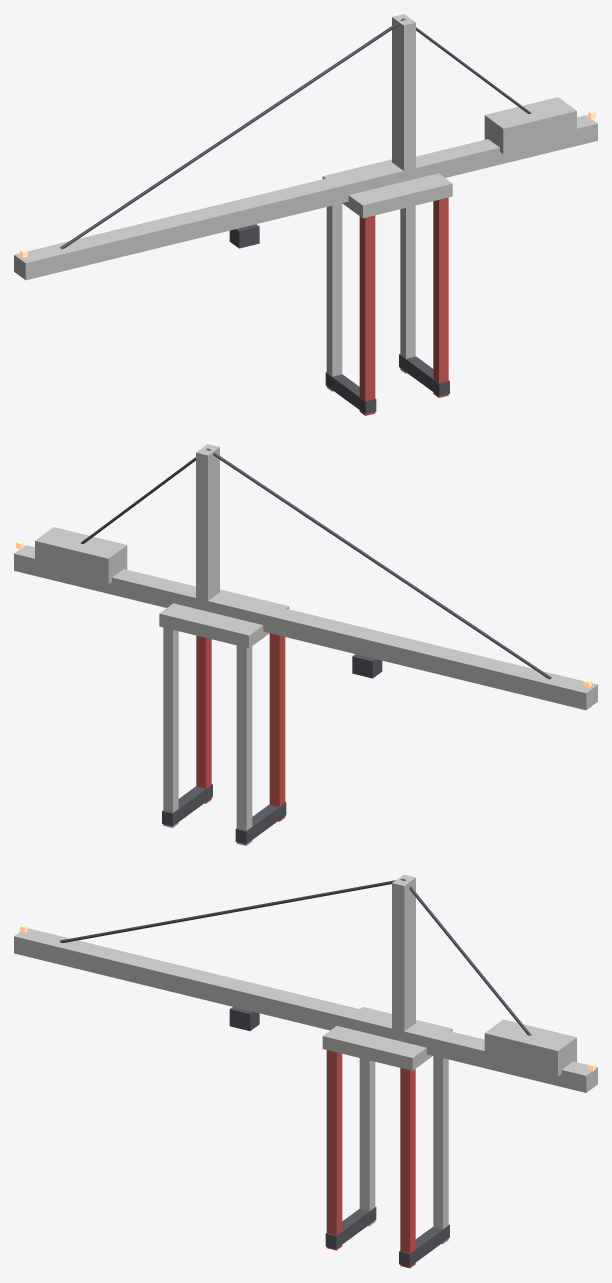
Rendered from port_crane.glb.
The picture shows the model from 3 angles, top to bottom: view 1: azimuth 30°, elevation 25°; view 2: azimuth 150°, elevation 25°; view 3: azimuth 330°, elevation 25°; orthographic projection.
Parts seen in each view (by area): view 1: CraneBoom, CraneApex, CraneMachinery, CraneLeg-9-7, CraneLeg9-7, CranePortalBeam, CraneLeg-97, CraneLeg97, CraneStay-80, CraneSill-9, CraneSill9, CraneCab; view 2: CraneBoom, CraneApex, CraneMachinery, CraneLeg-97, CraneLeg97, CranePortalBeam, CraneLeg-9-7, CraneLeg9-7, CraneStay-80, CraneSill-9, CraneSill9, CraneCab; view 3: CraneBoom, CraneApex, CraneMachinery, CraneLeg-9-7, CraneLeg9-7, CranePortalBeam, CraneLeg97, CraneLeg-97, CraneStay-80, CraneSill-9, CraneSill9, CraneStay40 (+1 smaller).
Boxes of the visible parts, x1,y1,x2,y2 form: CraneBoom: (14, 115, 597, 280); CraneApex: (392, 14, 415, 179); CraneMachinery: (484, 97, 576, 154); CraneLeg-9-7: (359, 215, 375, 415); CraneLeg9-7: (433, 197, 448, 397); CranePortalBeam: (322, 159, 452, 218); CraneLeg-97: (326, 203, 342, 391); CraneLeg97: (400, 205, 415, 373); CraneStay-80: (60, 18, 404, 249); CraneSill-9: (325, 372, 376, 414); CraneSill9: (399, 354, 449, 396); CraneCab: (229, 224, 259, 248); CraneBoom: (14, 545, 597, 710); CraneApex: (196, 444, 219, 609); CraneMachinery: (35, 527, 127, 584); CraneLeg-97: (236, 645, 252, 845); CraneLeg97: (163, 627, 178, 827); CranePortalBeam: (159, 589, 289, 648); CraneLeg-9-7: (269, 633, 285, 821); CraneLeg9-7: (196, 635, 211, 803); CraneStay-80: (207, 448, 551, 679); CraneSill-9: (235, 802, 286, 844); CraneSill9: (162, 784, 212, 826); CraneCab: (352, 654, 382, 678); CraneBoom: (14, 928, 597, 1092); CraneApex: (392, 874, 415, 1039); CraneMachinery: (484, 1019, 576, 1076); CraneLeg-9-7: (326, 1050, 342, 1250); CraneLeg9-7: (400, 1068, 415, 1268); CranePortalBeam: (322, 1007, 452, 1070); CraneLeg97: (433, 1056, 448, 1244); CraneLeg-97: (359, 1058, 375, 1226); CraneStay-80: (60, 878, 404, 942); CraneSill-9: (325, 1206, 376, 1248); CraneSill9: (399, 1224, 449, 1266); CraneStay40: (403, 879, 531, 1035).
Size of the model in its own units: 141 by 86.28 by 17.
